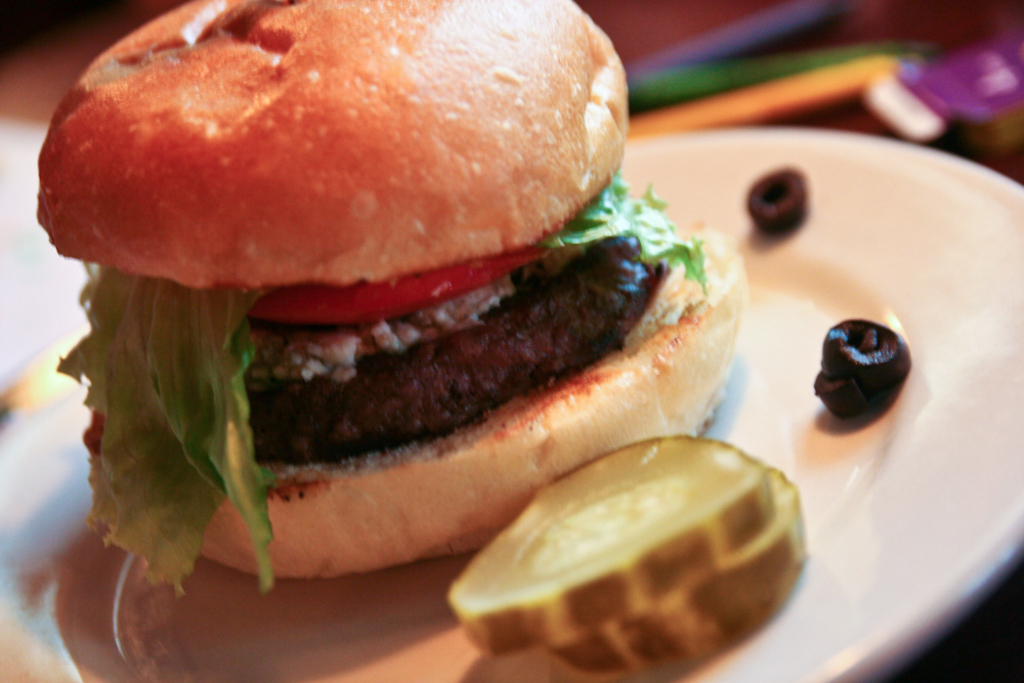Hamburger: (33, 0, 748, 591)
